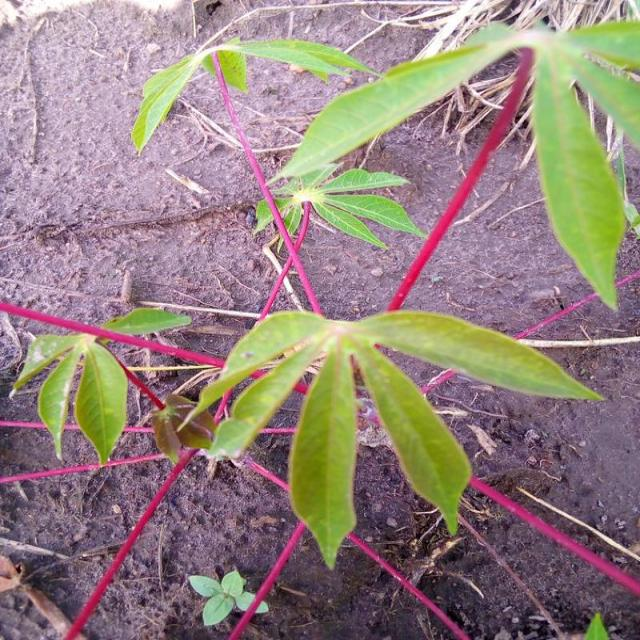cassava leaf: (191, 306, 604, 570), (530, 29, 628, 311), (287, 341, 358, 570), (73, 339, 128, 465)
